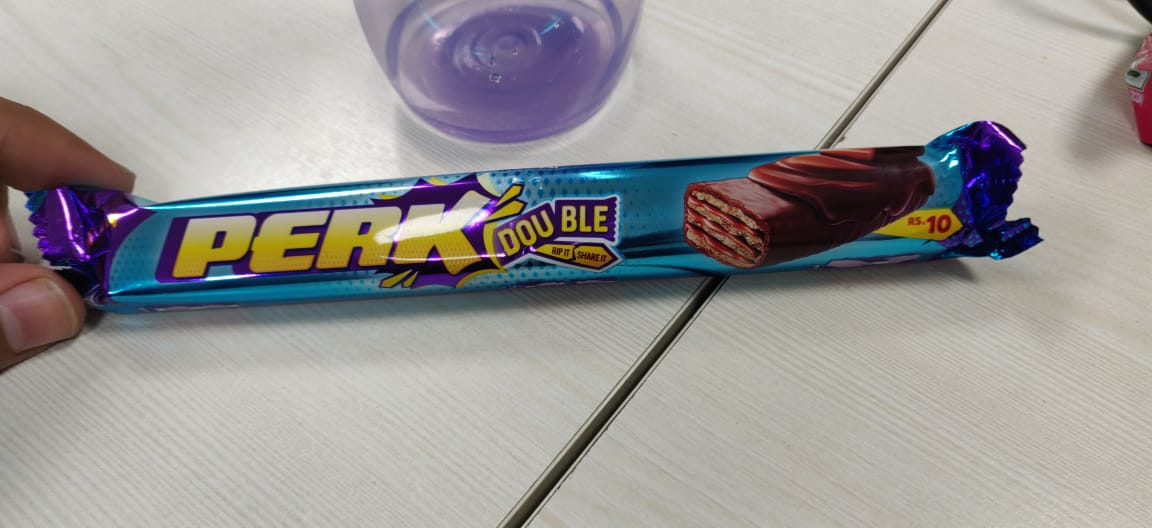perk: (23, 105, 1053, 322)
